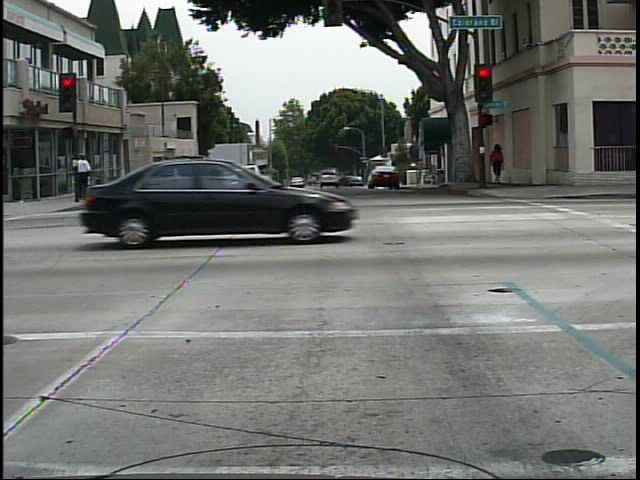person: (67, 147, 96, 209), (489, 137, 512, 190)
